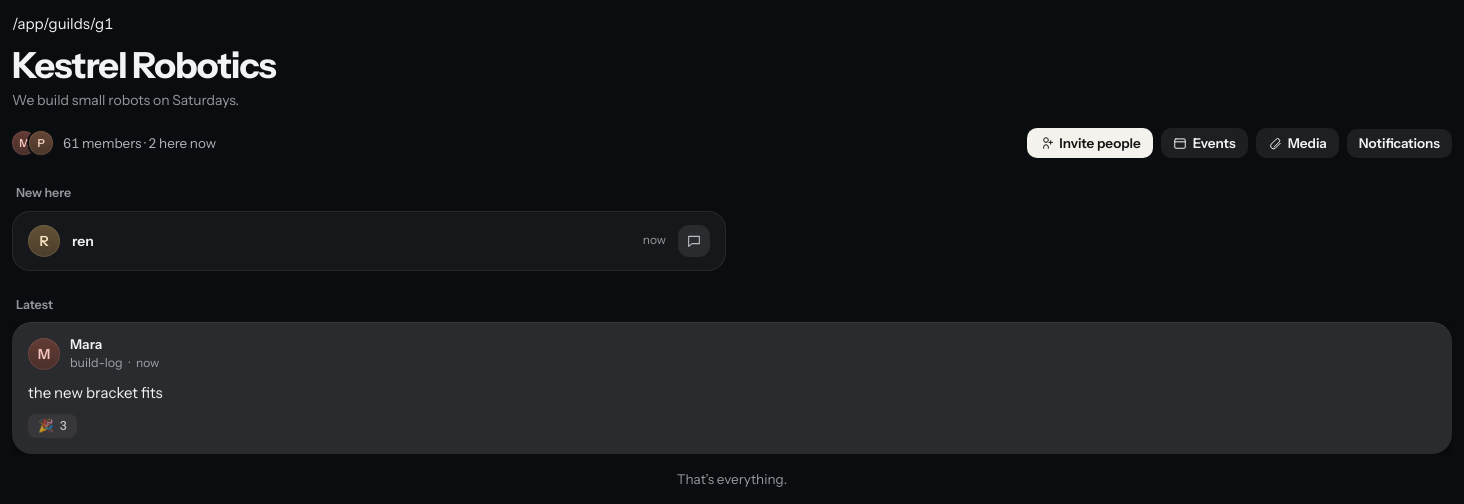
it: the feed › toggles a reaction in place
Click the button "🎉 3" at {"x": 53, "y": 426}, box [28,414,77,438]
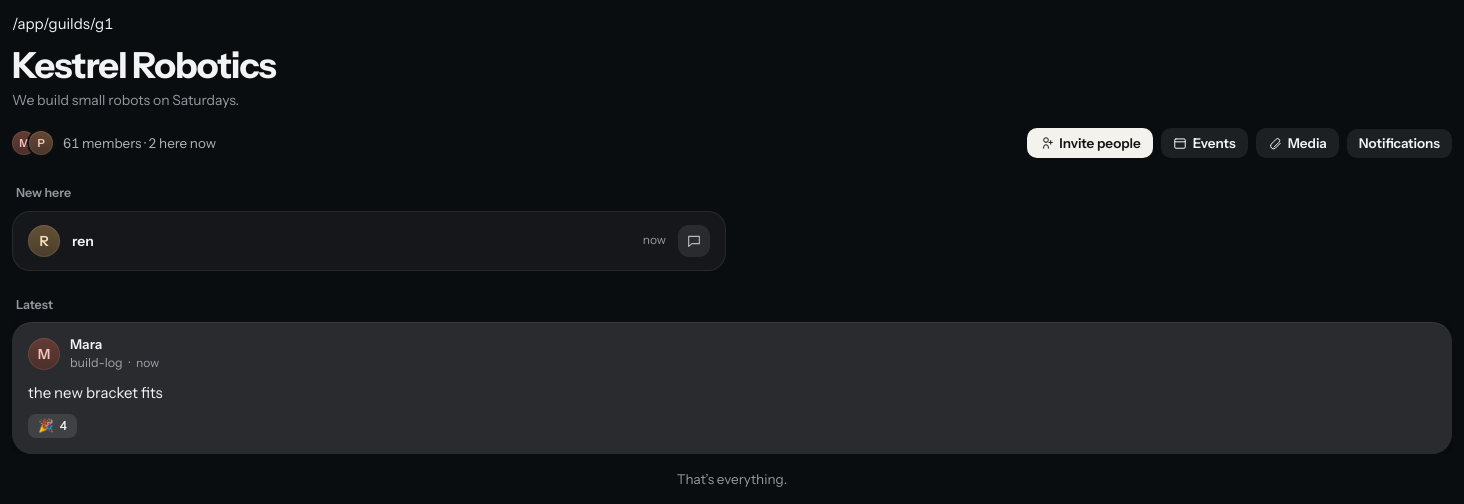
Check: the text "4" is shown, box [60,416,67,435]
